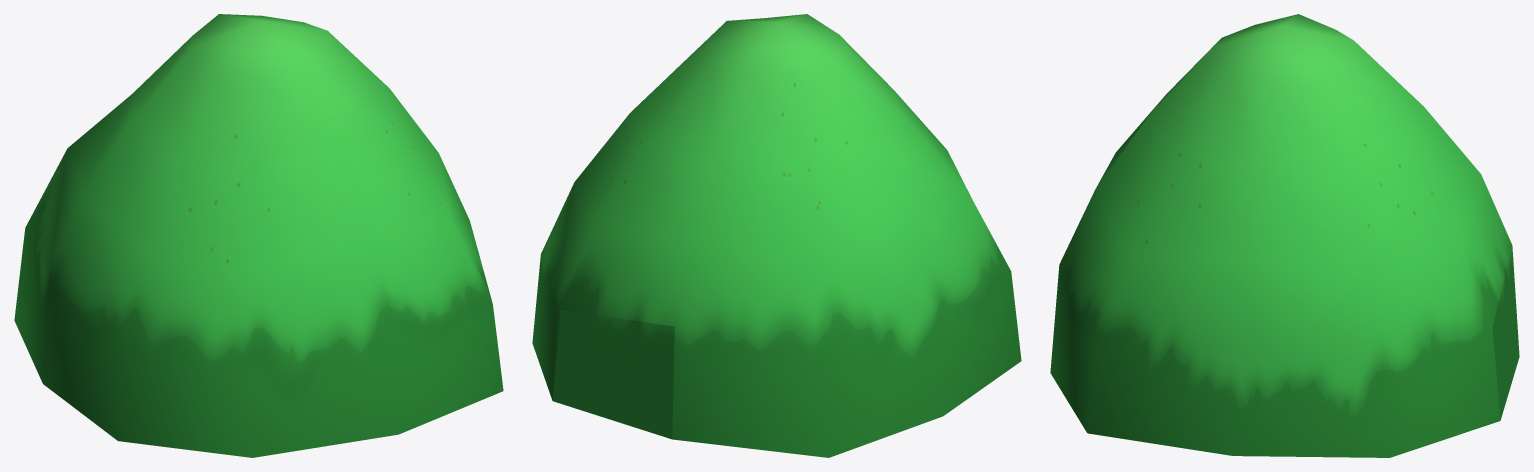
The model's file is french_bushes_01.fbx.
3 views of the same model, side by side, from view 1: azimuth 30°, elevation 25°; view 2: azimuth 150°, elevation 25°; view 3: azimuth 270°, elevation 25° (orthographic).
Visible parts, largest first — view 1: french_trees:pSphere238; view 2: french_trees:pSphere238; view 3: french_trees:pSphere238.
Boxes of the visible parts, <box> form: french_trees:pSphere238: <box>14,14,503,457</box>; french_trees:pSphere238: <box>532,14,1021,457</box>; french_trees:pSphere238: <box>1050,14,1519,457</box>.
Bounding box in the file's own units: 1.44 × 1.18 × 1.49.
